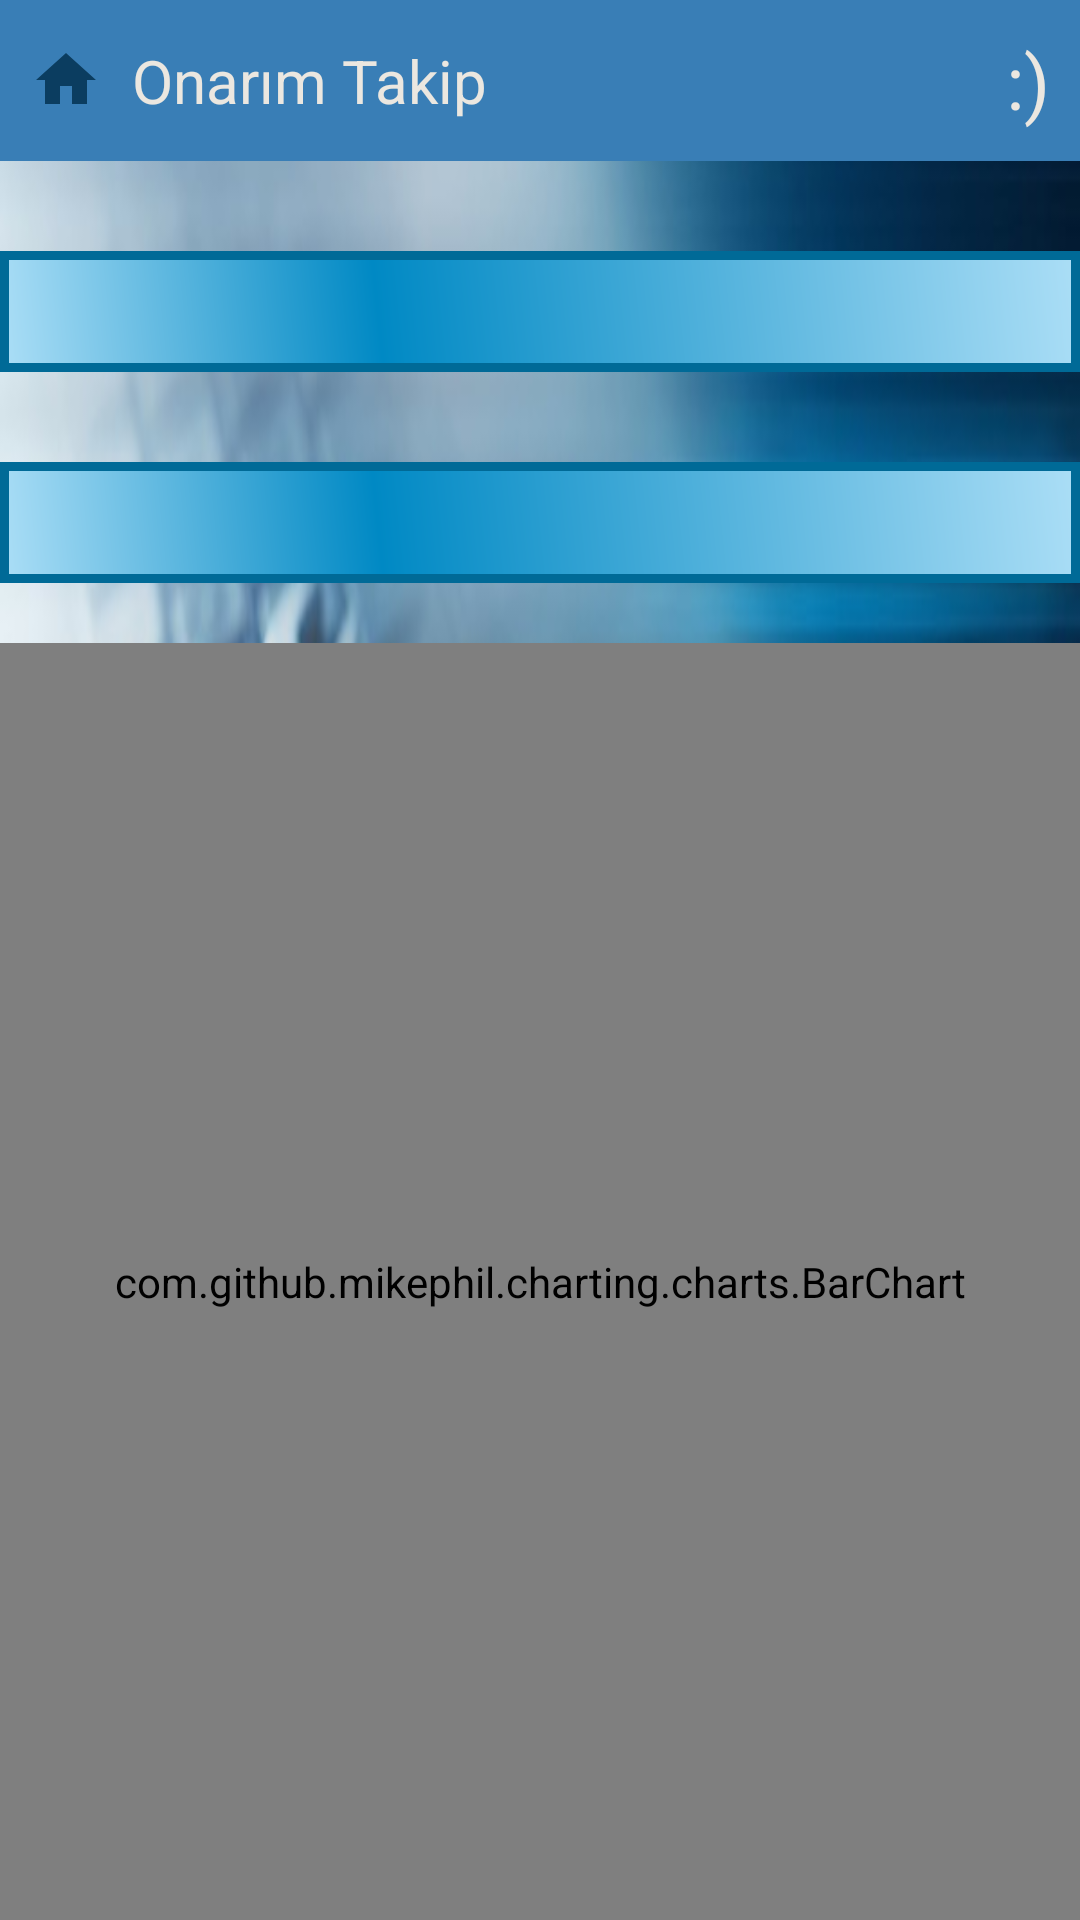

Point at icon controls on the screen. Image size 1080*1920, points as (x=x, y=y).
home: (x=66, y=78)
